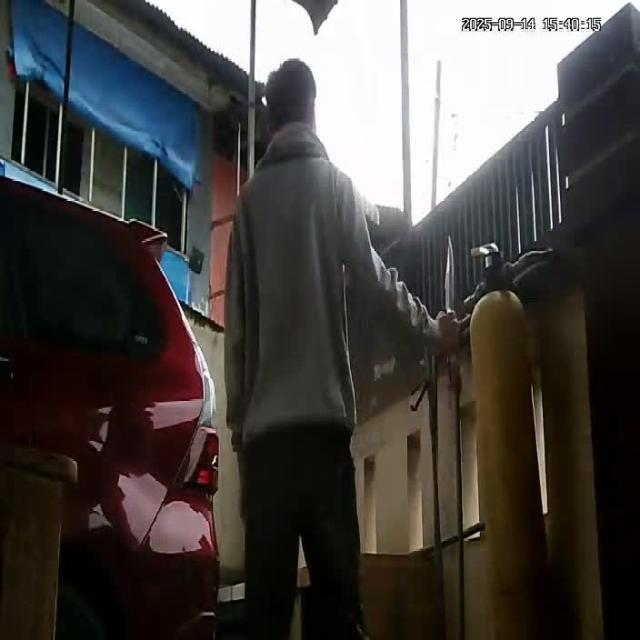senjata_tajam: (442, 234, 458, 318)
